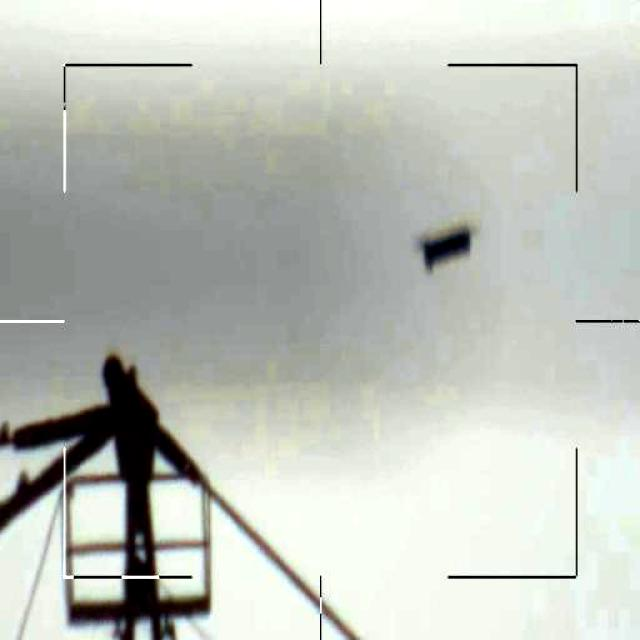bird: (412, 226, 475, 268)
